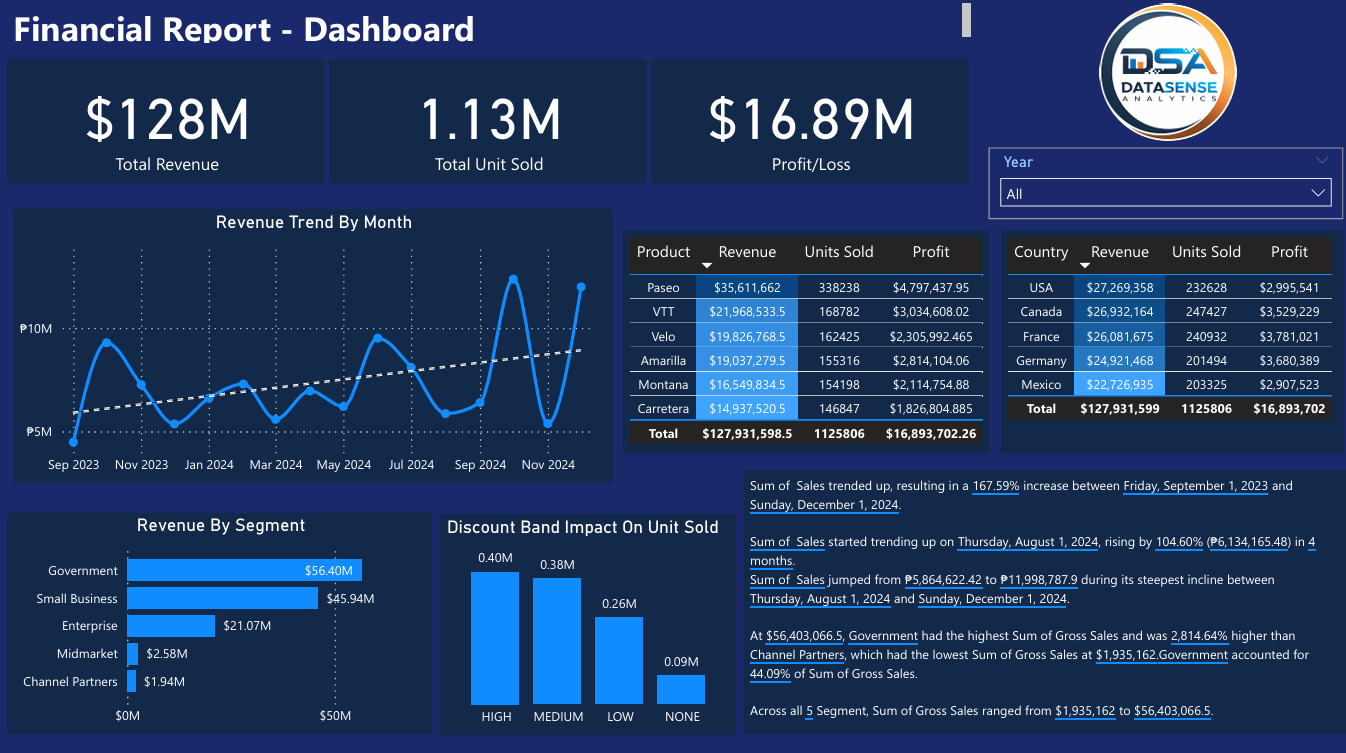

Layout of this report page (visuals, bound fields, positions):
{"tool":"powerbi","page":{"name":"Page 1","canvas":[1280,720],"ordinal":0},"visuals":[{"type":"textbox","box":[10,0,917,47],"z":0},{"type":"card","fields":{"Values":["Sum(Financials.Gross Sales)"]},"box":[10,58.3,300,116.7],"z":1000},{"type":"card","fields":{"Values":["Sum(Financials.Units Sold)"]},"box":[315,58.3,300,116.7],"z":2000},{"type":"card","fields":{"Values":["Sum(Financials.Profit)"]},"box":[620,58.3,300,116.7],"z":3000},{"type":"lineChart","title":"Revenue Trend By Month","fields":{"Y":["Sum(Financials. Sales)"],"Category":["Financials.Start of Month"]},"box":[15,200,567.5,258.8],"z":4000},{"type":"clusteredBarChart","title":"Revenue By Segment","fields":{"Category":["Financials.Segment"],"Y":["Sum(Financials.Gross Sales)"]},"box":[10,488.3,401.7,208.3],"z":5000},{"type":"clusteredColumnChart","title":"Discount Band Impact On Unit Sold","fields":{"Category":["Financials.Discount Band"],"Y":["Sum(Financials.Units Sold)"]},"box":[420,488.8,280,208.8],"z":6000},{"type":"tableEx","fields":{"Values":["Financials.Country","Sum(Financials.Gross Sales)","Sum(Financials.Units Sold)","Sum(Financials.Profit)"]},"box":[951.2,220,323.8,211.2],"z":7000},{"type":"tableEx","fields":{"Values":["Financials.Product","Sum(Financials.Gross Sales)","Sum(Financials.Units Sold)","Sum(Financials.Profit)"]},"box":[592.5,220,346.2,211.2],"z":8000},{"type":"slicer","fields":{"Values":["Financials.Year"]},"box":[938.8,141.2,336.2,67.5],"z":9000},{"type":"image","box":[938,0,342,140],"z":10000},{"type":"textbox","box":[708.3,446.7,571.7,250],"z":11000}]}

Visuals, with their boxes in screenshot pixels (x1, y1, x2, y2), scaled from the page's 1280x720 canvas onto the 1346x753 screenshot:
textbox: BBox(11, 0, 975, 49)
card - Sum(Financials.Gross Sales): BBox(11, 61, 326, 183)
card - Sum(Financials.Units Sold): BBox(331, 61, 647, 183)
card - Sum(Financials.Profit): BBox(652, 61, 967, 183)
"Revenue Trend By Month" lineChart: BBox(16, 209, 613, 480)
"Revenue By Segment" clusteredBarChart: BBox(11, 511, 433, 729)
"Discount Band Impact On Unit Sold" clusteredColumnChart: BBox(442, 511, 736, 730)
tableEx - Financials.Country x Sum(Financials.Gross Sales): BBox(1000, 230, 1341, 451)
tableEx - Financials.Product x Sum(Financials.Gross Sales): BBox(623, 230, 987, 451)
slicer - Financials.Year: BBox(987, 148, 1341, 218)
image: BBox(986, 0, 1345, 146)
textbox: BBox(745, 467, 1345, 729)
